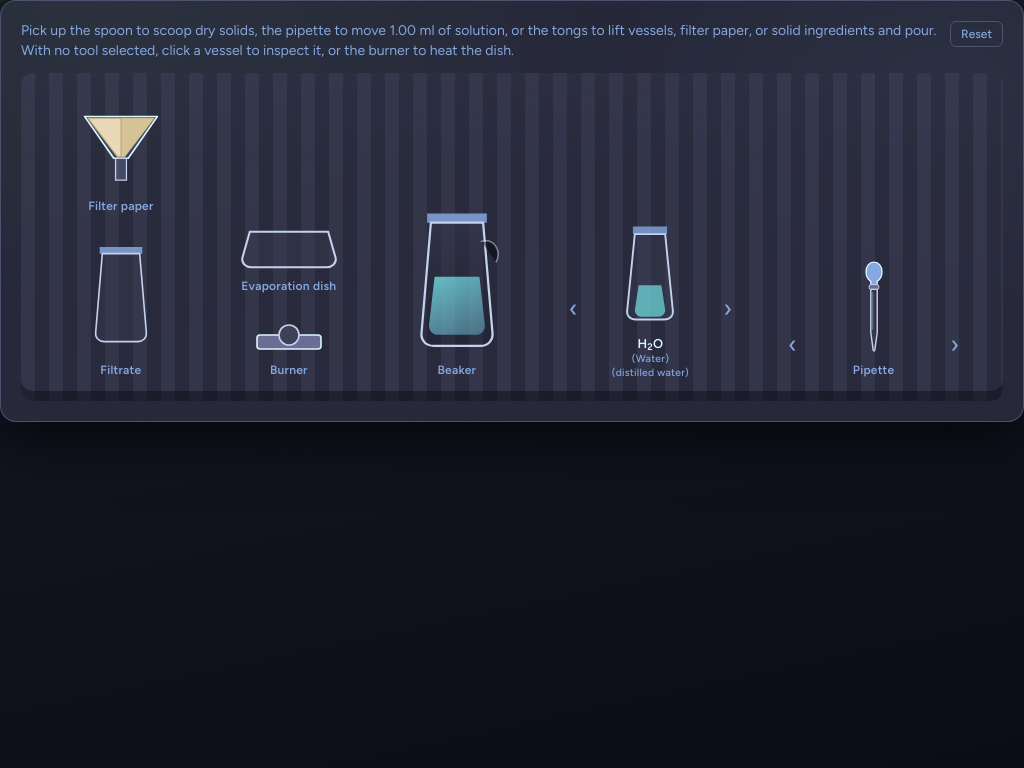
Test case: LabBench inspect › idle sodium sulfate inspect shows Na2SO4(s) and 2.00 g
Expected: the button "Pipette" is shown, [850,253,898,385]
Click the button named "Next ingredient": (728, 309) [715,287,740,331]
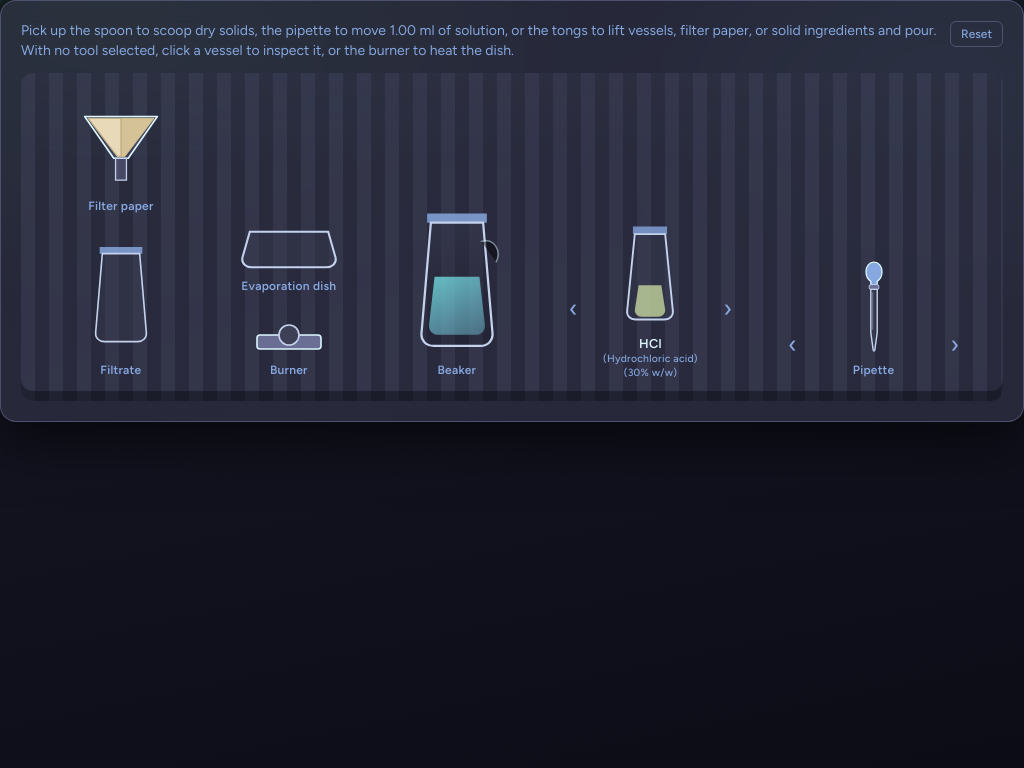
Click the button named "Next ingredient": (728, 309) [715,287,740,331]
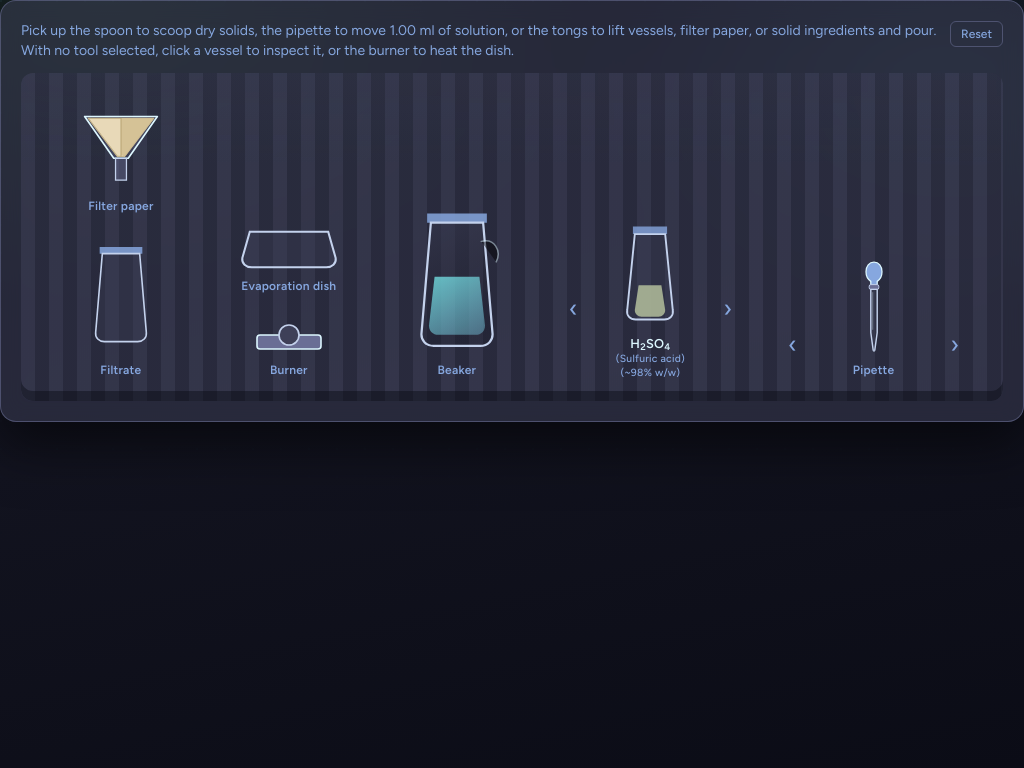
Click the button named "Next ingredient": (728, 309) [715,287,740,331]
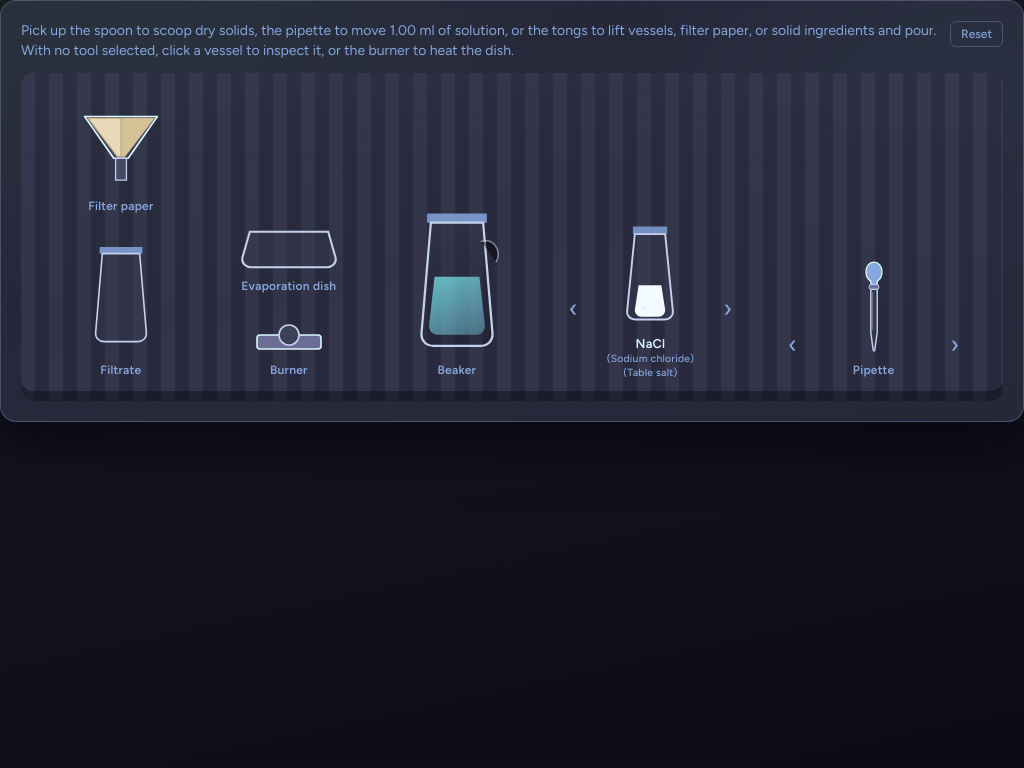
Click the button named "Next ingredient": (728, 309) [715,287,740,331]
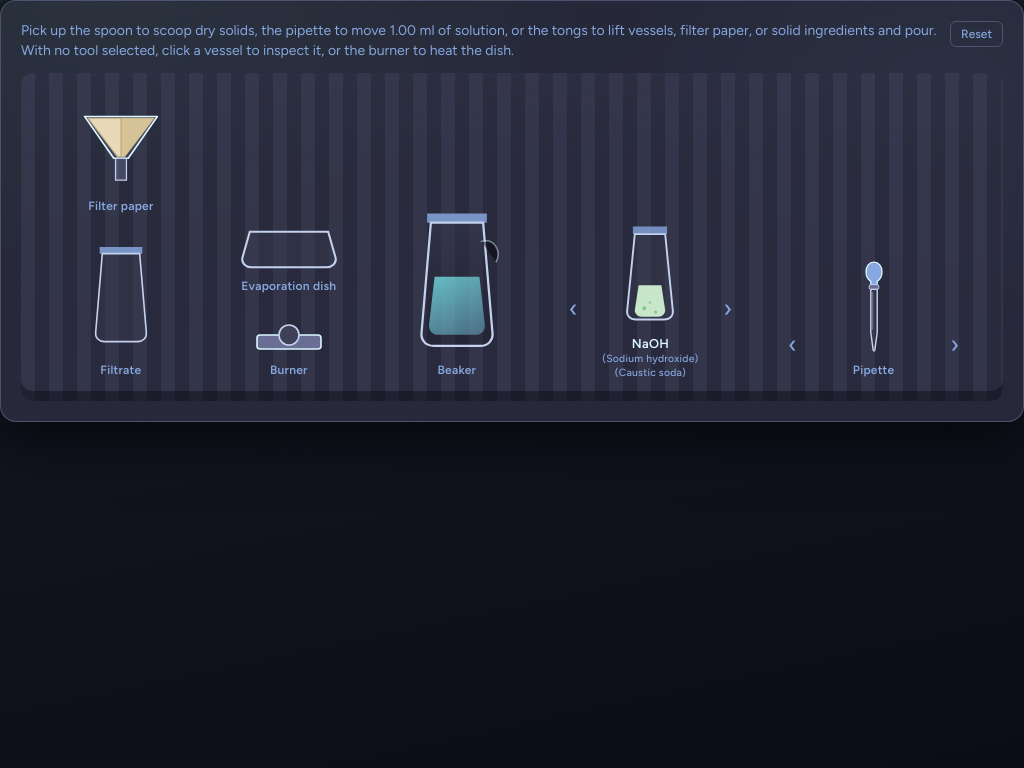
Click the button named "Next ingredient": (728, 309) [715,287,740,331]
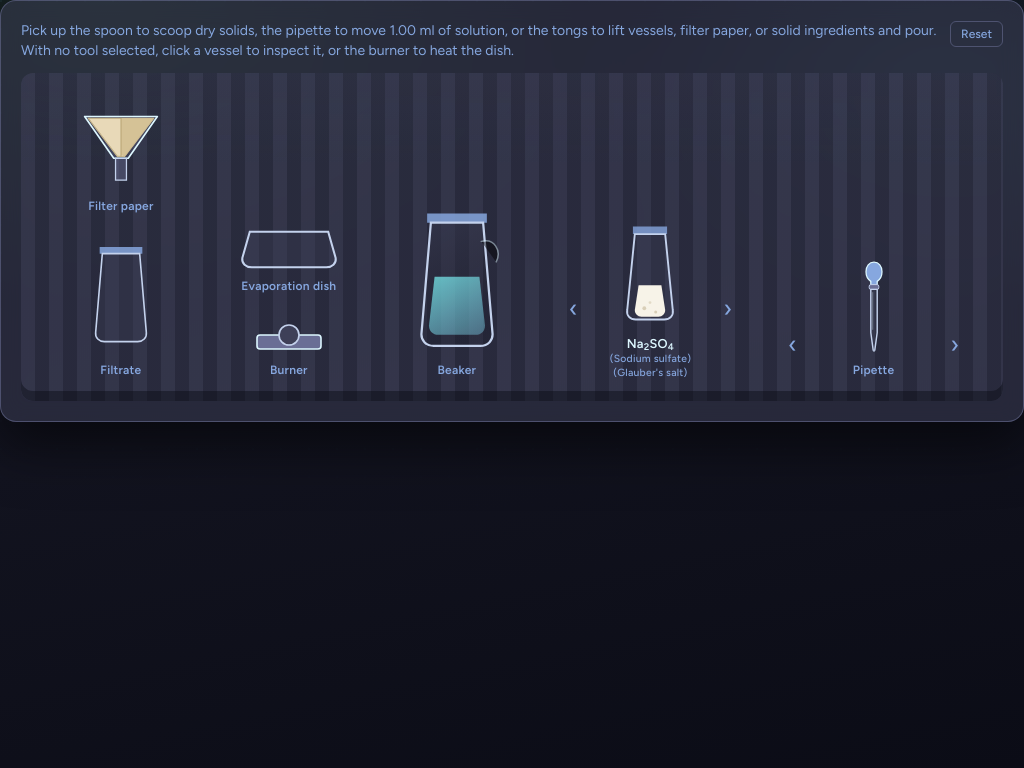
Click the button with aria-label "Sodium sulfate (Na2SO4)": (650, 298) [606,212,694,385]
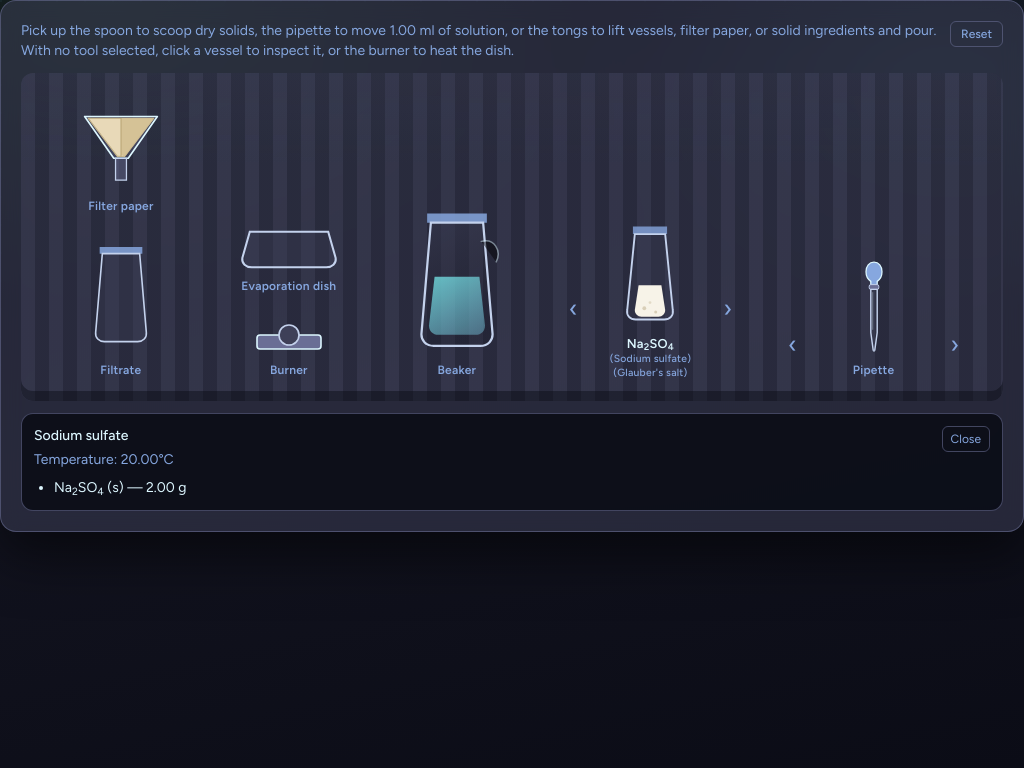
Now the dialog named "Contents of Sodium sulfate" shows "Na2SO4 (s)", box [21,413,1003,511]
Now the dialog named "Contents of Sodium sulfate" shows "2.00 g", box [146,479,186,496]
